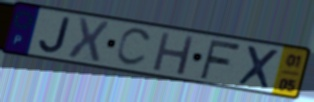C: (114, 28, 155, 69)
F: (198, 38, 243, 81)
H: (150, 30, 197, 78)
J: (36, 15, 73, 55)
X: (65, 15, 112, 64), (235, 43, 281, 91)
